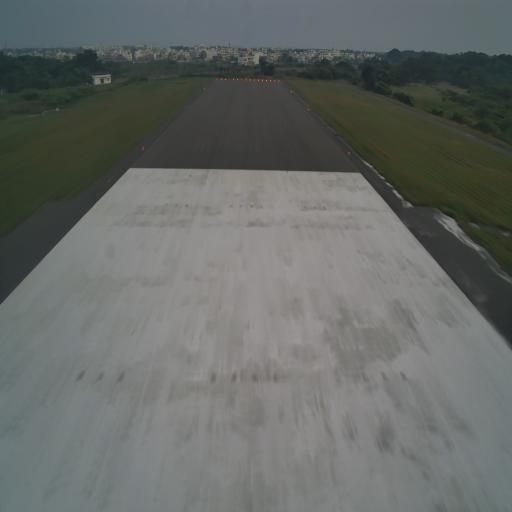on: (347, 149, 352, 156), (142, 144, 146, 151)
